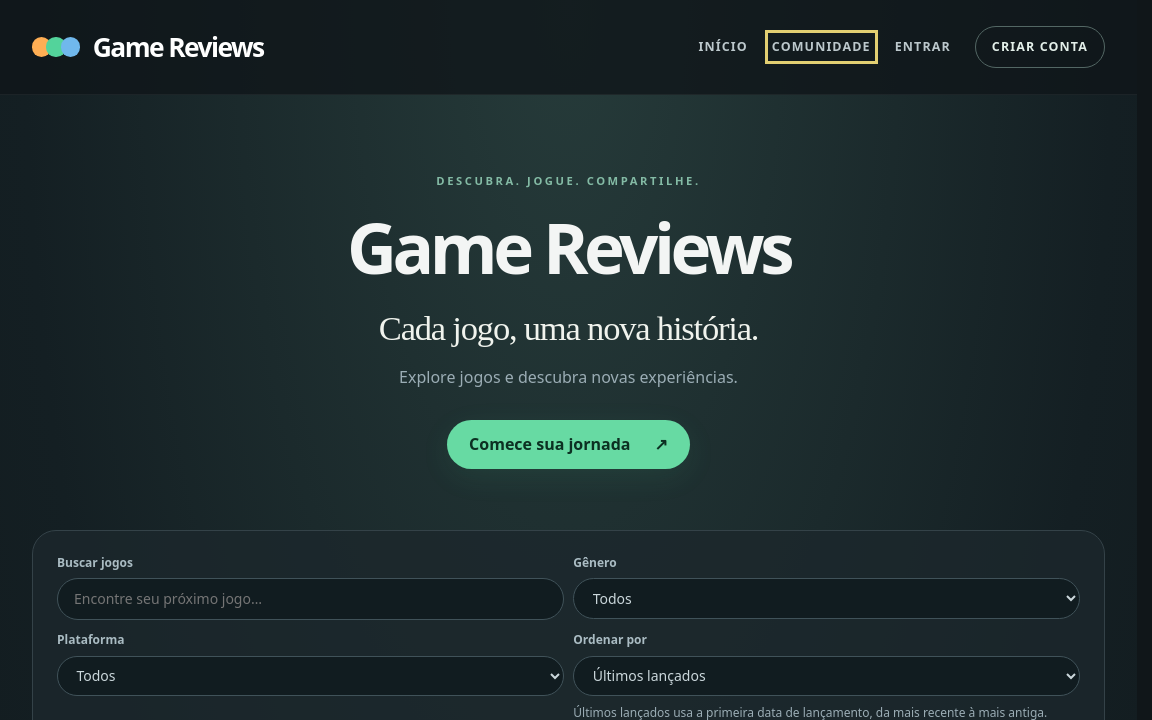
Test: visitante abre Comunidade por teclado e retorna ao catálogo
Press Enter
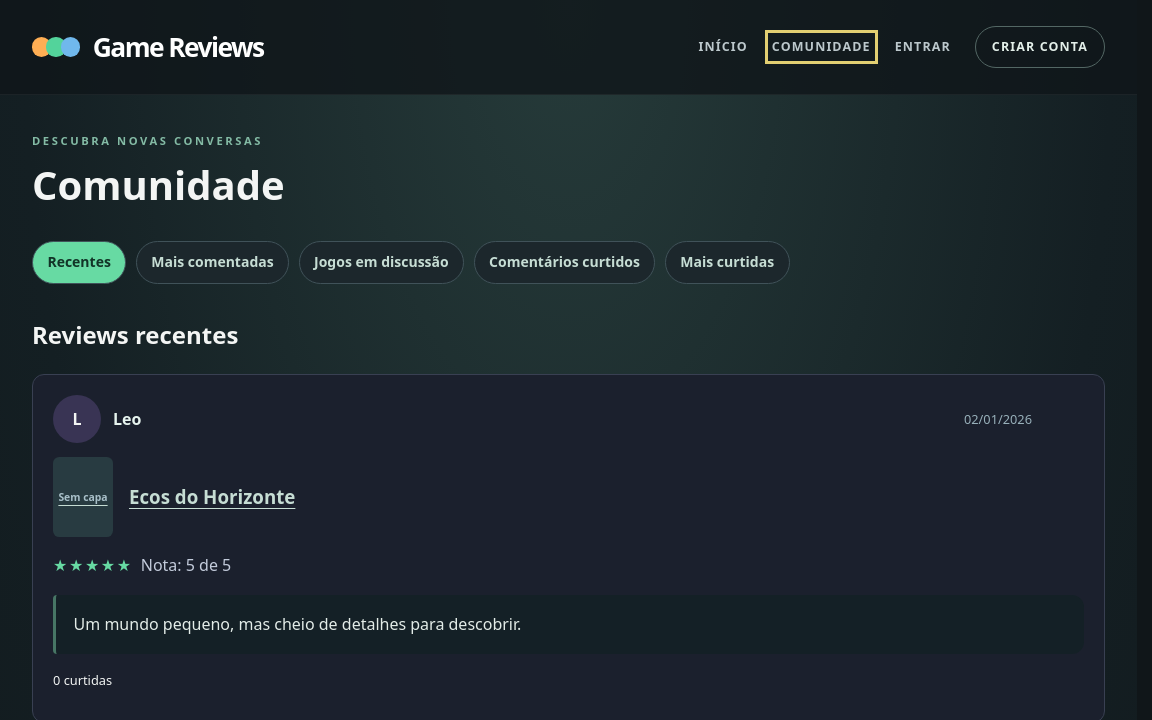
Expected: the heading "Comunidade" is shown, [32,156,285,212]
Expected: the button "Recentes" is shown, [32,240,126,284]
Expected: the button "Mais comentadas" is shown, [136,240,289,284]
Click the link "Início" at (723, 47), box [698,37,748,57]
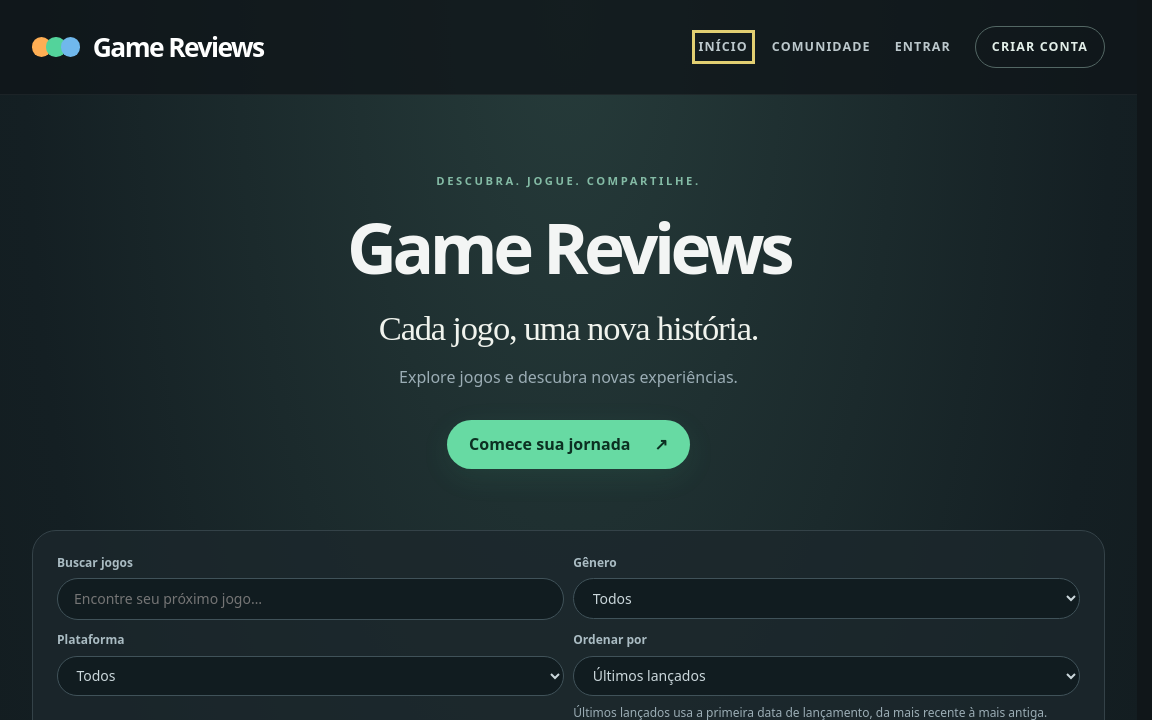
Expected: the field labelled "Buscar jogos" is shown, [57,578,564,620]
